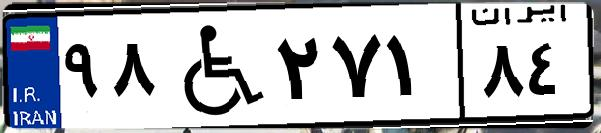1: (385, 28, 445, 110)
2: (270, 28, 330, 110)
4: (525, 38, 570, 115)
7: (330, 28, 385, 110)
8: (475, 38, 525, 113), (110, 28, 158, 98)
9: (57, 26, 110, 100)
ژ (معلولین و جانبازان): (158, 12, 270, 120)
